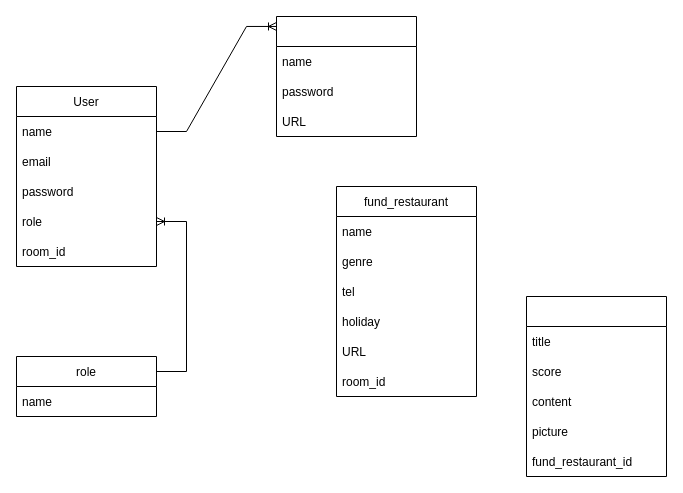
The diagram is 683 pixels wide and 493 high, and some of its shapes have lost their labels. Each missing label, with the box of its shape:
report_restaurant: (526, 296, 666, 476)
room: (276, 16, 416, 136)
